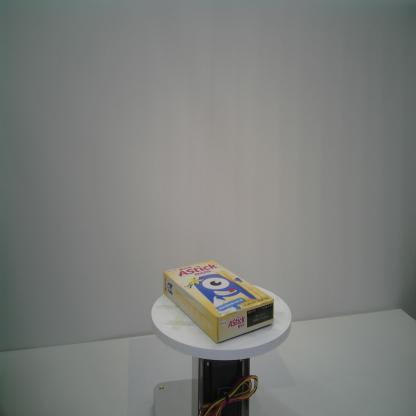Dessert: (162, 258, 276, 345)
